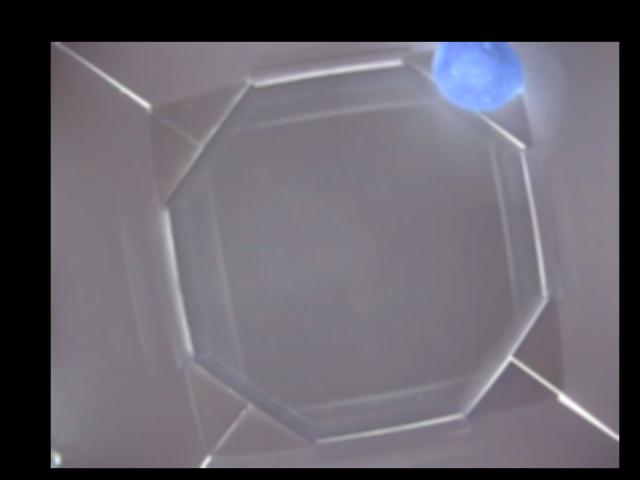Potato: (434, 42, 527, 111)
